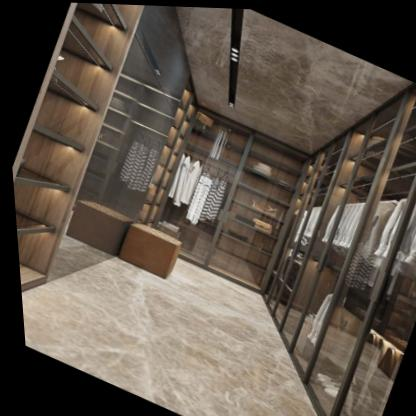Wooden floor: (17, 236, 312, 416)
